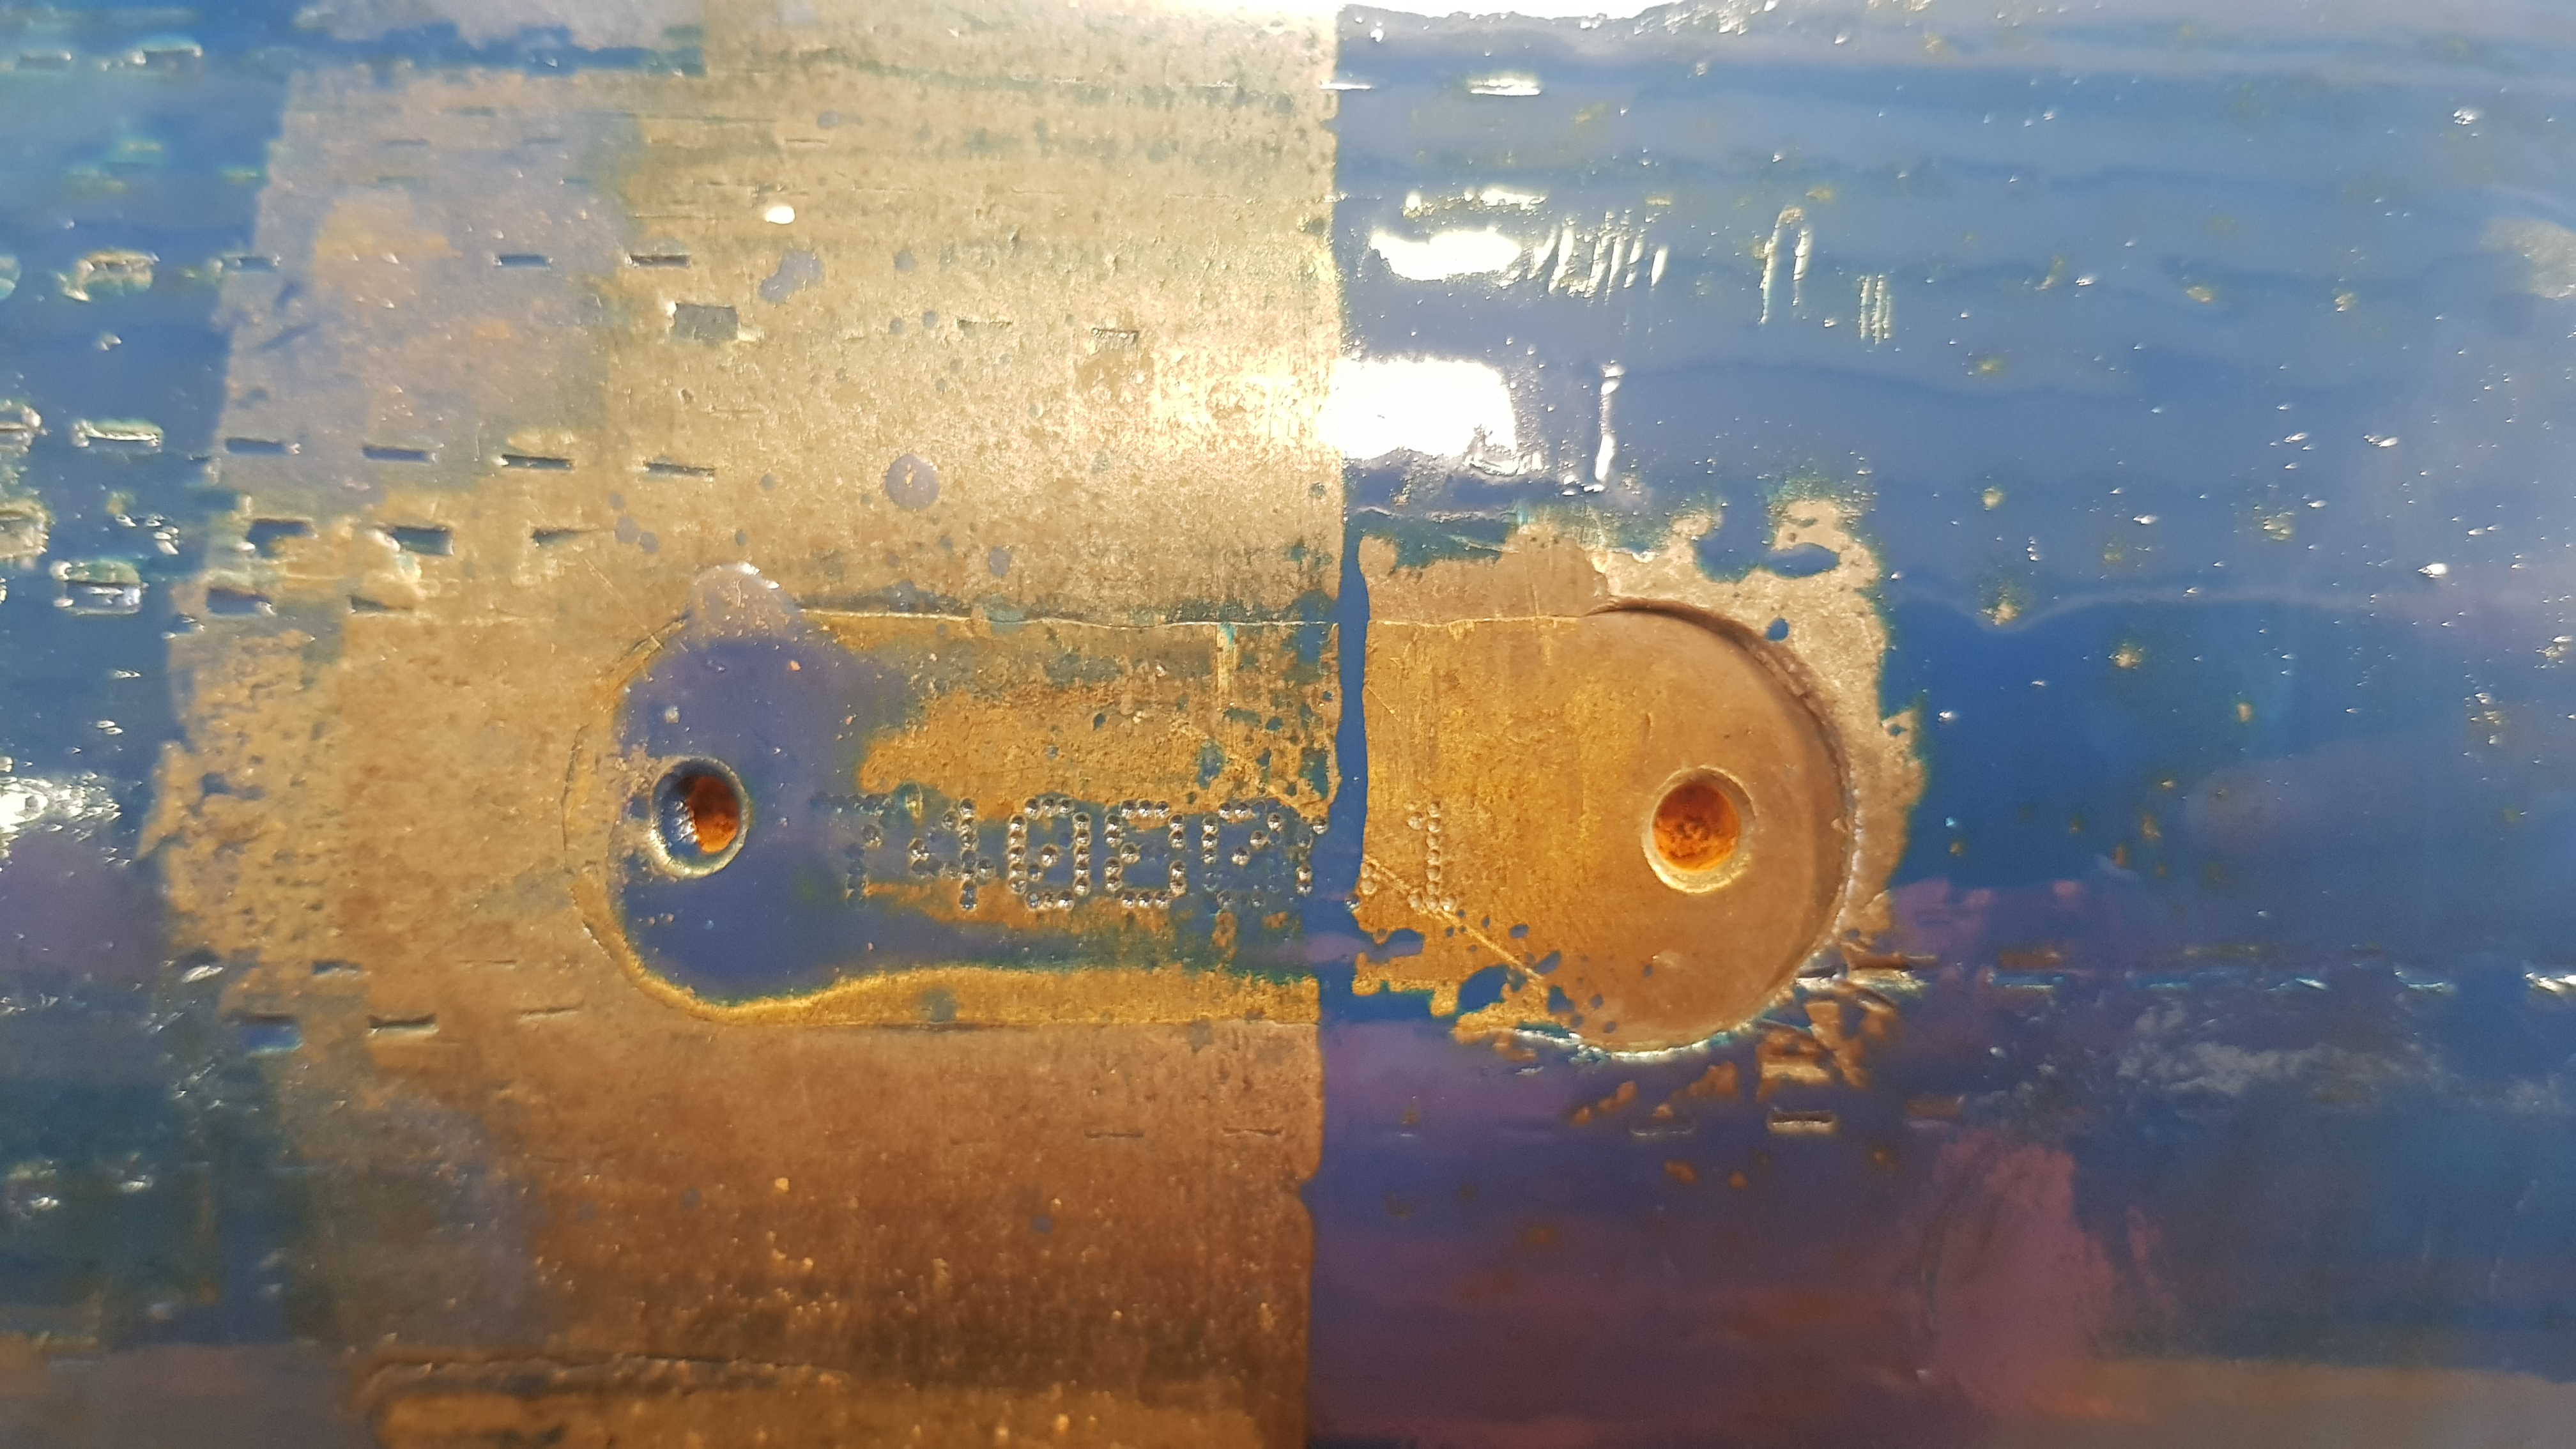character: (807, 780, 899, 922), (902, 789, 998, 925), (1099, 794, 1194, 922), (1005, 787, 1095, 922), (1396, 793, 1465, 925)
